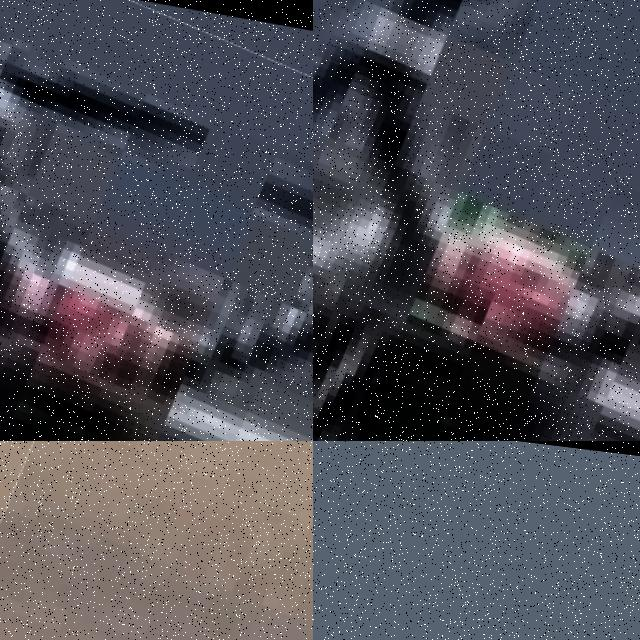drone: (313, 0, 640, 441), (0, 0, 313, 441), (0, 441, 313, 640)
